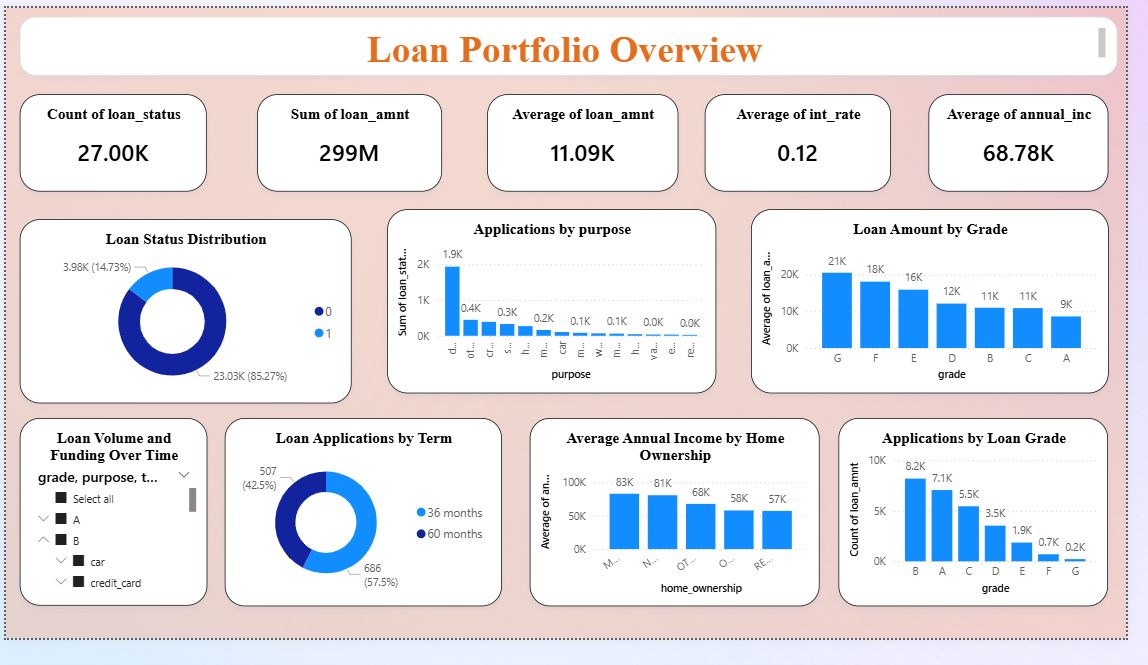

The dashboard page shown, as its layout file describes it:
{"tool":"powerbi","page":{"name":"loan portfolio","canvas":[1280,720],"ordinal":0},"visuals":[{"type":"card","title":"Count of loan_status","fields":{"Values":["CountNonNull(loan_train_cleaned.loan_status)"]},"box":[15.7,98.4,213.8,111.2],"z":0},{"type":"card","title":"Sum of loan_amnt","fields":{"Values":["Sum(loan_train_cleaned.loan_amnt)"]},"box":[286.5,98.4,211,111.2],"z":1000},{"type":"card","title":"Average of loan_amnt","fields":{"Values":["Avg(loan_train_cleaned.loan_amnt)"]},"box":[550.2,98.4,218.1,111.2],"z":2000},{"type":"card","title":"Average of int_rate","fields":{"Values":["Avg(loan_train_cleaned.int_rate)"]},"box":[798.6,98.6,212.9,111.4],"z":3000},{"type":"card","title":"Average of annual_inc","fields":{"Values":["Avg(loan_train_cleaned.annual_inc)"]},"box":[1054.3,98.6,205.7,111.4],"z":4000},{"type":"textbox","box":[15.7,10,1254.3,67],"z":5000},{"type":"donutChart","title":"Loan Status Distribution","fields":{"Y":["CountNonNull(loan_train_cleaned.loan_status)"],"Category":["loan_train_cleaned.loan_status"]},"box":[15.9,240.9,379.1,210.3],"z":6000},{"type":"clusteredColumnChart","title":"Applications by purpose","fields":{"Category":["loan_train_cleaned.purpose"],"Y":["Sum(loan_train_cleaned.loan_status)"]},"box":[435.7,230,375.7,210],"z":7000},{"type":"slicer","title":"Loan Volume and Funding Over Time","fields":{"Values":["loan_train_cleaned.grade","loan_train_cleaned.purpose","loan_train_cleaned.term"]},"box":[15.7,468.6,214.3,214.3],"z":8000},{"type":"columnChart","title":"Loan Amount by Grade","fields":{"Category":["loan_train_cleaned.grade"],"Y":["Avg(loan_train_cleaned.loan_amnt)"]},"box":[851.4,230,408.6,210],"z":9000},{"type":"donutChart","title":"Loan Applications by Term","fields":{"Category":["loan_train_cleaned.term"],"Y":["Count(loan_train_cleaned.loan_amnt)"]},"box":[250.7,468.3,316.7,215.2],"z":10000},{"type":"clusteredColumnChart","title":"Average Annual Income by Home Ownership","fields":{"Y":["select","Avg(loan_train_cleaned.annual_inc)"],"Category":["loan_train_cleaned.home_ownership"]},"box":[599.2,468.3,331.4,215.2],"z":11000},{"type":"clusteredColumnChart","title":"Applications by Loan Grade","fields":{"Category":["loan_train_cleaned.grade"],"Y":["CountNonNull(loan_train_cleaned.loan_amnt)"]},"box":[951.4,468.3,308.2,215.2],"z":12000}]}

Visuals, with their boxes in screenshot pixels (x1, y1, x2, y2), scaled from the page's 1280x720 canvas onto the 1148x665 screenshot:
"Count of loan_status" card: 14:91:206:194
"Sum of loan_amnt" card: 257:91:446:194
"Average of loan_amnt" card: 493:91:689:194
"Average of int_rate" card: 716:91:907:194
"Average of annual_inc" card: 946:91:1130:194
textbox: 14:9:1139:71
"Loan Status Distribution" donutChart: 14:222:354:417
"Applications by purpose" clusteredColumnChart: 391:212:728:406
"Loan Volume and Funding Over Time" slicer: 14:433:206:631
"Loan Amount by Grade" columnChart: 764:212:1130:406
"Loan Applications by Term" donutChart: 225:433:509:631
"Average Annual Income by Home Ownership" clusteredColumnChart: 537:433:835:631
"Applications by Loan Grade" clusteredColumnChart: 853:433:1130:631
